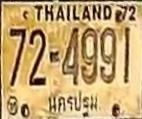1: (124, 27, 130, 83)
2: (28, 29, 47, 84)
4: (61, 26, 78, 84)
7: (9, 28, 26, 86)
9: (80, 27, 98, 84), (99, 27, 117, 83)
NPT: (46, 89, 101, 119)
